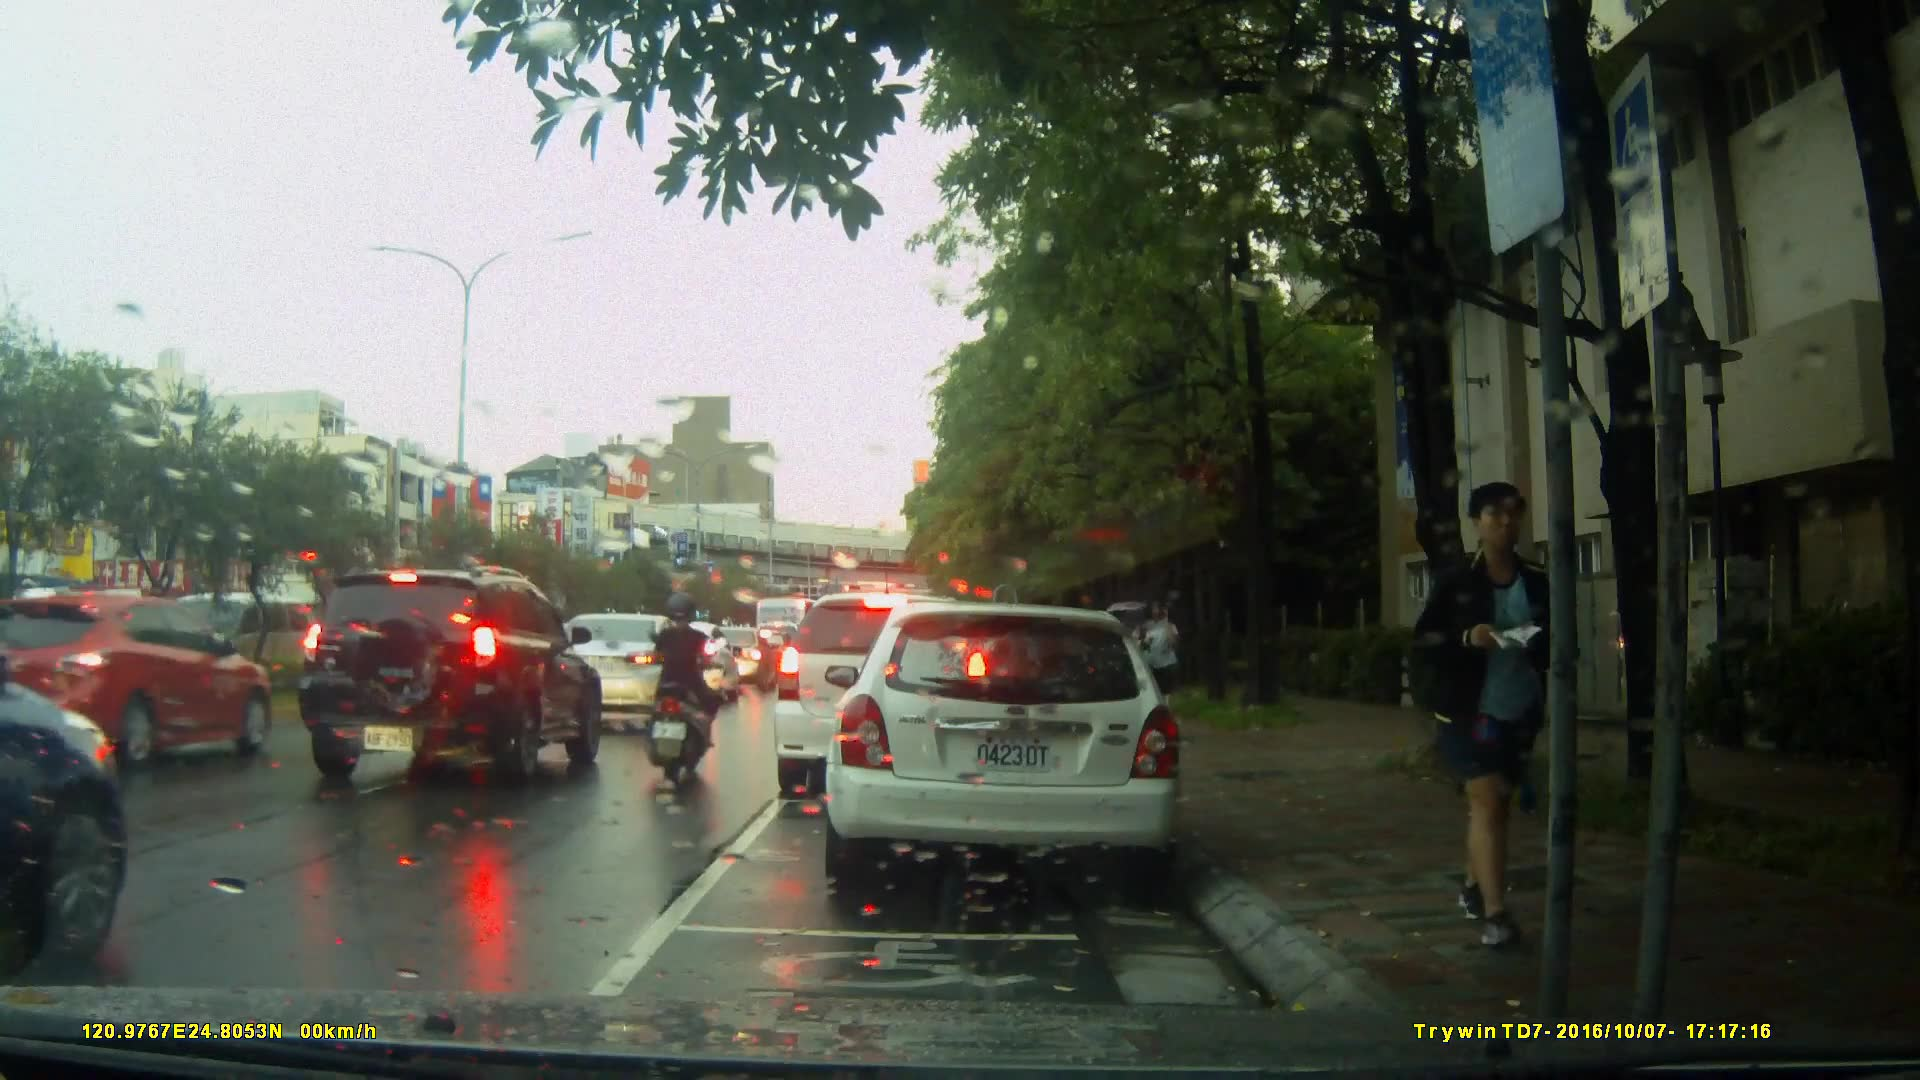pedestrian: (1432, 465, 1588, 937), (1458, 512, 1548, 822), (1132, 588, 1187, 730)
rider: (643, 591, 737, 787)
vehicle: (815, 593, 1201, 900), (289, 563, 605, 793), (3, 535, 132, 972), (1, 590, 282, 779), (771, 590, 995, 802), (527, 611, 700, 738), (700, 626, 770, 684)
